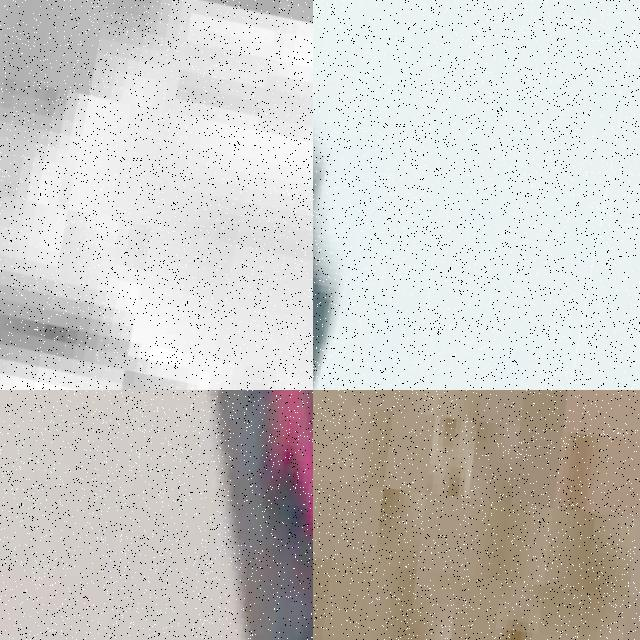0: (0, 0, 313, 390)
drone: (313, 0, 640, 390), (0, 390, 313, 640)
